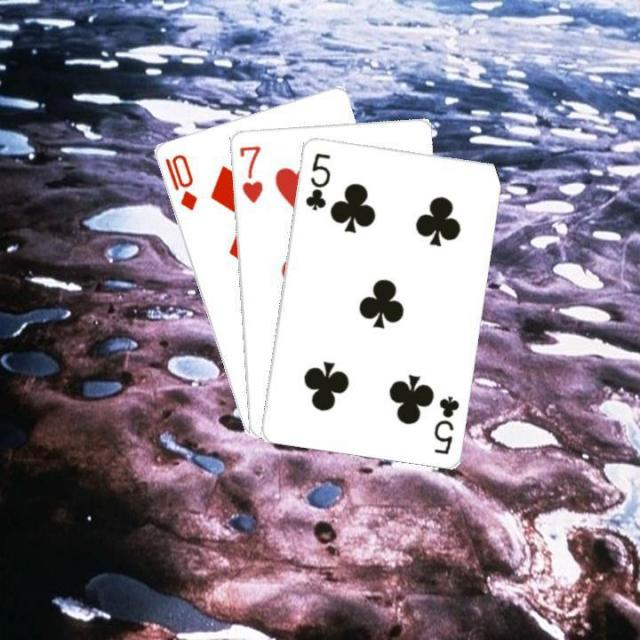10D: (160, 150, 198, 213)
5C: (430, 391, 462, 455), (302, 148, 332, 212)
7H: (235, 142, 265, 205)
